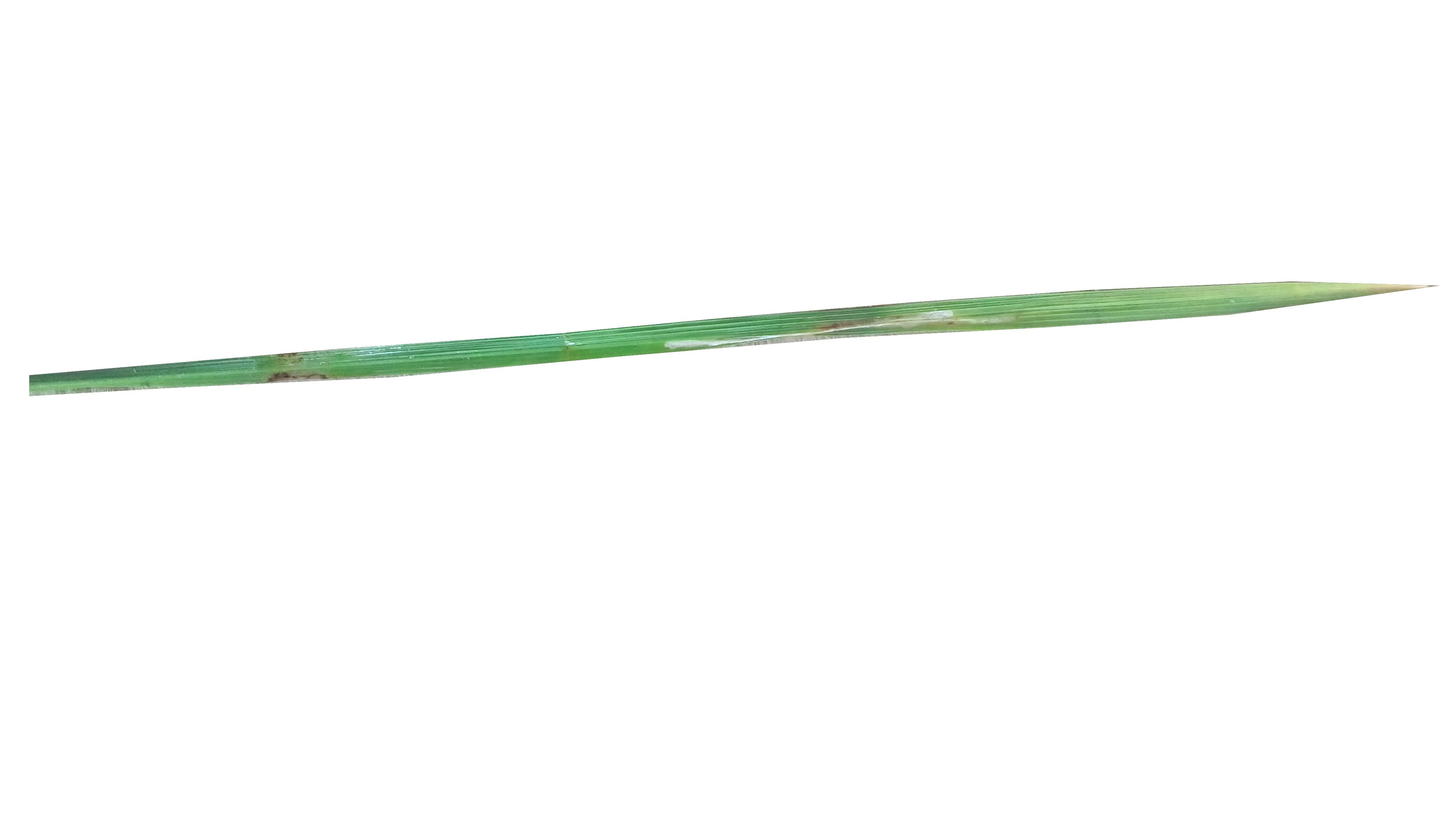Blight: (820, 309, 1018, 332), (1236, 282, 1431, 296)
Rice blast: (262, 350, 335, 393)
